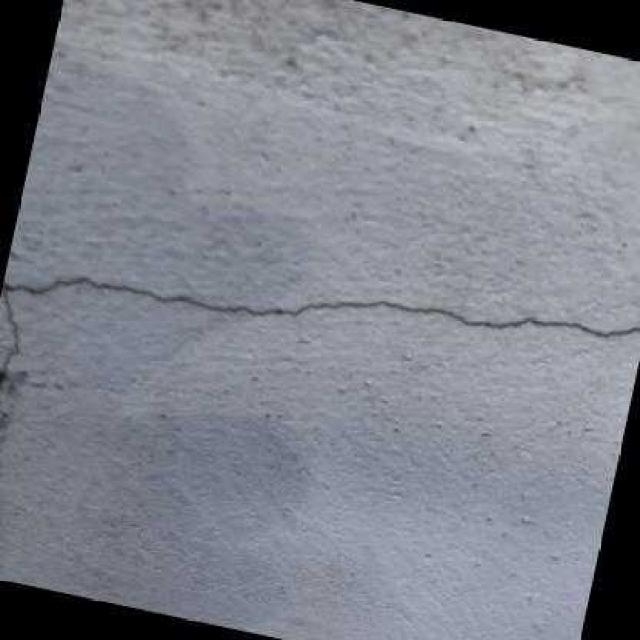D00: (0, 275, 640, 392)
